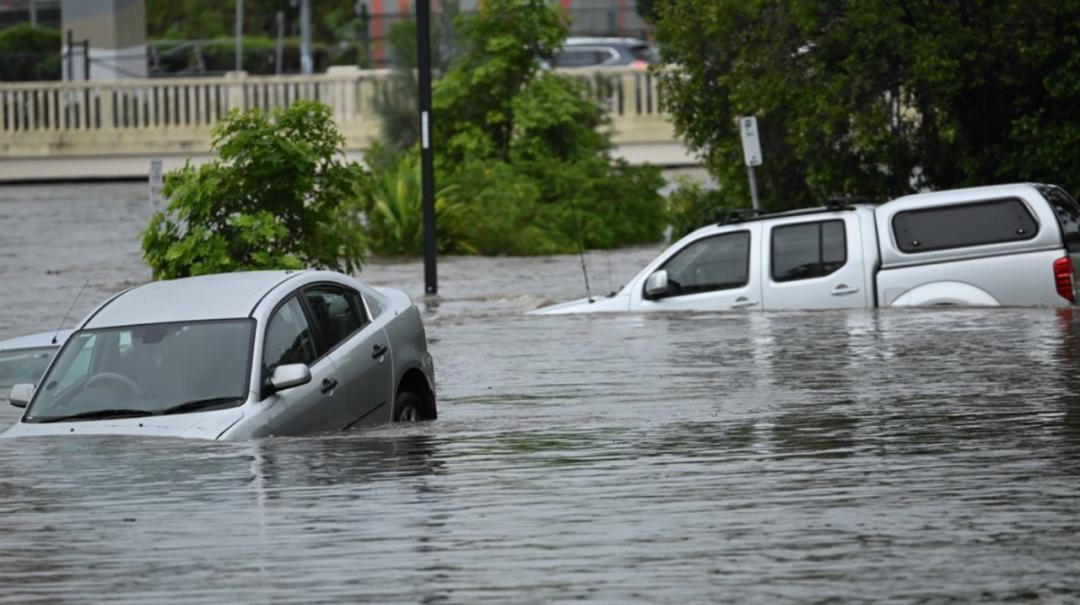water: (2, 240, 1076, 601), (0, 180, 153, 338)
